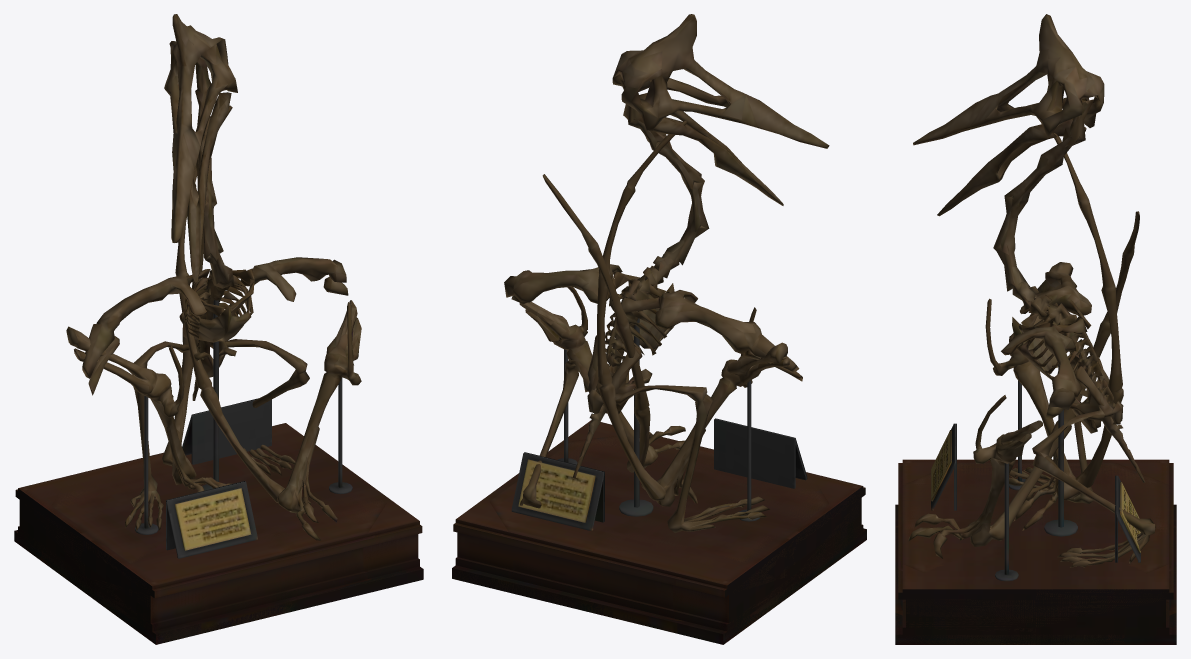
The model's file is fossil-quetzal.glb.
3 renders of one model, left to right at view 1: azimuth 30°, elevation 25°; view 2: azimuth 150°, elevation 25°; view 3: azimuth 270°, elevation 25°, orthographic. The views are drawn at different scales.
Parts seen in each view (by area): view 1: mFossilBaseMiddle, mFossilBaseEnd (×2), mFtrFossilQuetzalcoatlusA, mFtrFossilQuetzalcoatlusB, mFtrFossilQuetzalcoatlusC; view 2: mFossilBaseMiddle, mFossilBaseEnd (×2), mFtrFossilQuetzalcoatlusA, mFtrFossilQuetzalcoatlusC, mFtrFossilQuetzalcoatlusB; view 3: mFossilBaseMiddle, mFtrFossilQuetzalcoatlusA, mFossilBaseEnd (×2), mFtrFossilQuetzalcoatlusC, mFtrFossilQuetzalcoatlusB.
Boxes of the visible parts, x1=… form: mFossilBaseMiddle: x1=14, y1=300, x2=423, y2=644; mFossilBaseEnd (×2): x1=15, y1=377, x2=420, y2=644; mFtrFossilQuetzalcoatlusA: x1=82, y1=14, x2=348, y2=531; mFtrFossilQuetzalcoatlusB: x1=175, y1=105, x2=361, y2=540; mFtrFossilQuetzalcoatlusC: x1=66, y1=159, x2=232, y2=492; mFossilBaseMiddle: x1=452, y1=318, x2=866, y2=644; mFossilBaseEnd (×2): x1=452, y1=349, x2=861, y2=644; mFtrFossilQuetzalcoatlusA: x1=504, y1=14, x2=829, y2=532; mFtrFossilQuetzalcoatlusC: x1=597, y1=120, x2=789, y2=506; mFtrFossilQuetzalcoatlusB: x1=519, y1=174, x2=685, y2=472; mFossilBaseMiddle: x1=895, y1=364, x2=1176, y2=644; mFtrFossilQuetzalcoatlusA: x1=913, y1=14, x2=1155, y2=567; mFossilBaseEnd (×2): x1=895, y1=380, x2=1176, y2=644; mFtrFossilQuetzalcoatlusC: x1=985, y1=133, x2=1123, y2=530; mFtrFossilQuetzalcoatlusB: x1=908, y1=211, x2=1139, y2=558.
Size of the model in its own units: 20.12 by 39.31 by 18.33.
6 materials, 6 textured.
